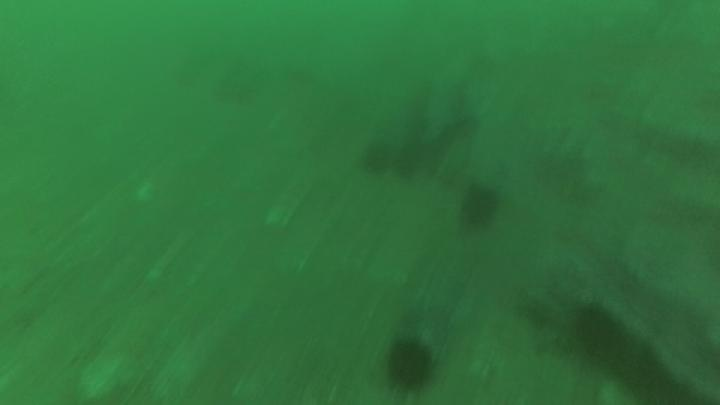echinus: (569, 302, 629, 364), (381, 333, 439, 397), (456, 182, 503, 233), (358, 137, 398, 178)
